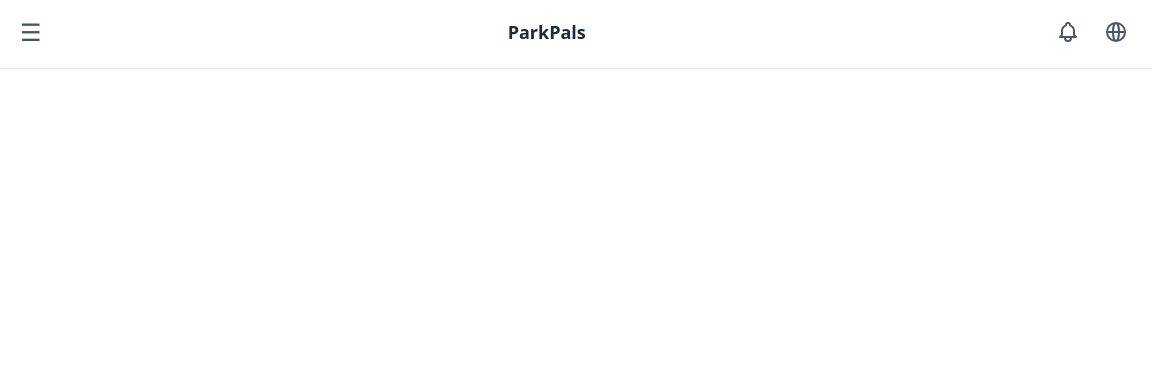
Navbar › Authenticated State › should render all navigation links when authenticated
Click the button named "Toggle menu".
click(31, 32)  # box [16, 16, 46, 48]
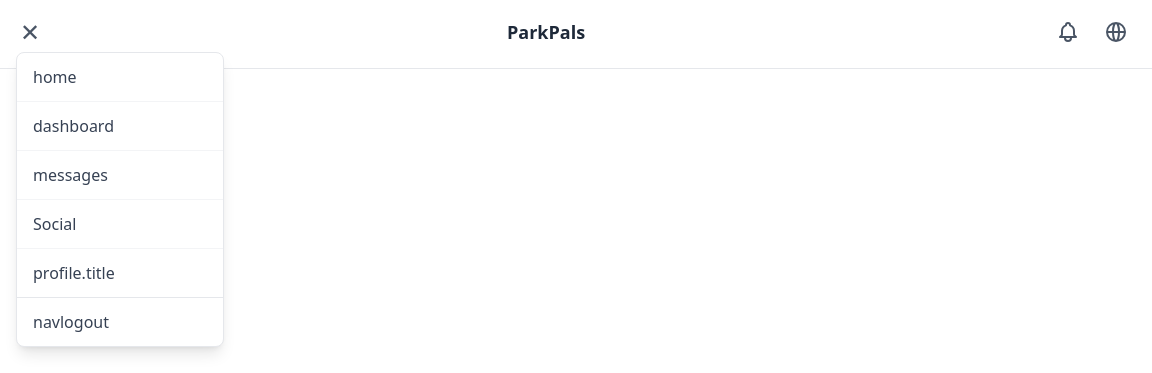
expect the link "dashboard" is shown: met, box [17, 101, 223, 150]
expect the link "messages" is shown: met, box [17, 150, 223, 199]
expect the link "Social" is shown: met, box [17, 199, 223, 248]
